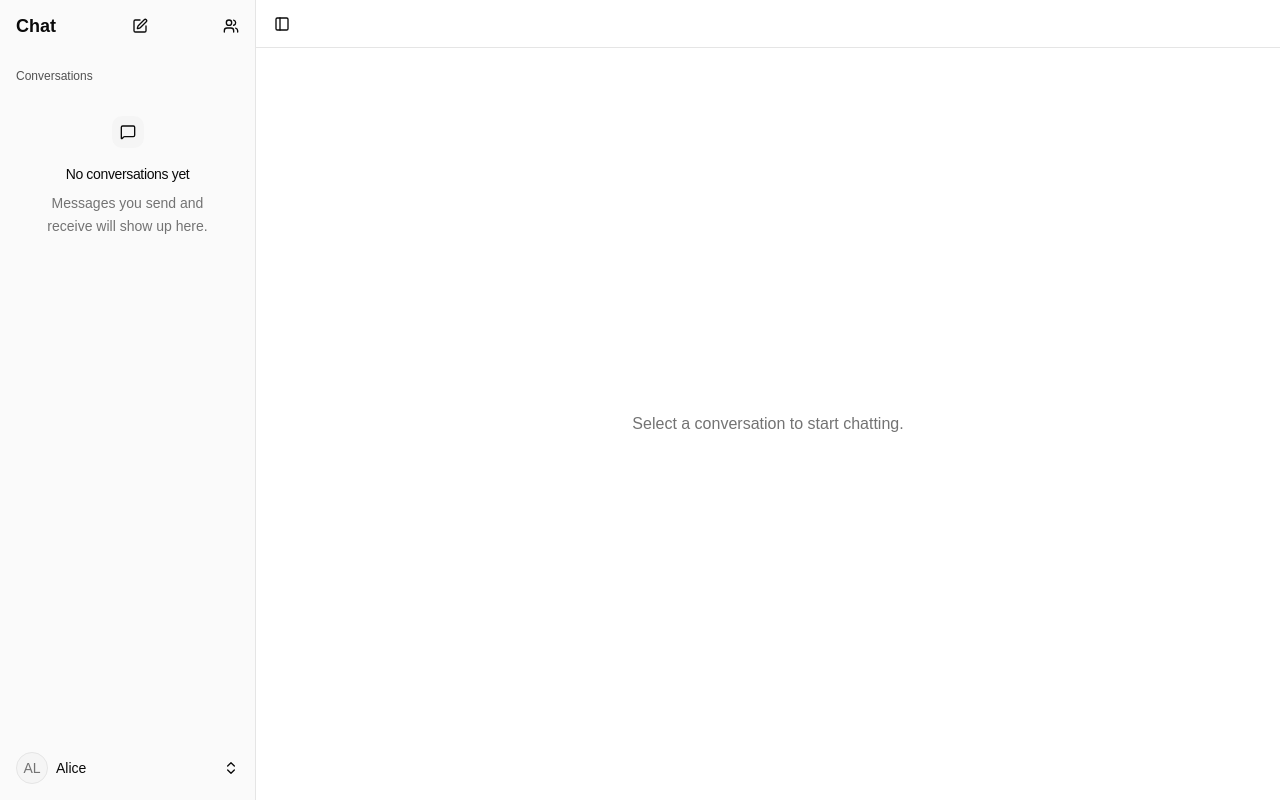
Test: first Direct Message › sends later Messages to the Conversation that the first one created
Expected: the text "No conversations yet" is shown, [66,164,189,184]
Click the button named "new conversation": [140, 26] box [124,10,156,42]
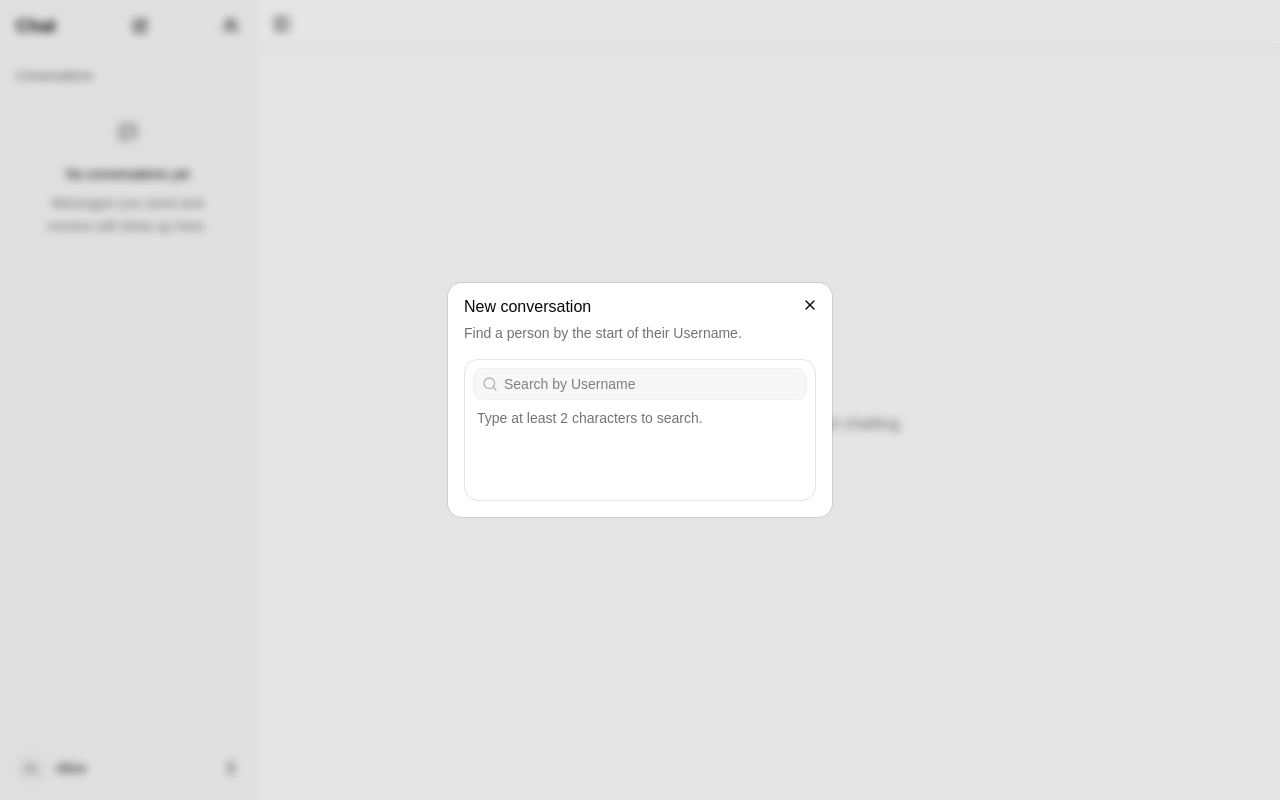
In the dropdown: [652, 384] box [498,374,806,394], type "bo"
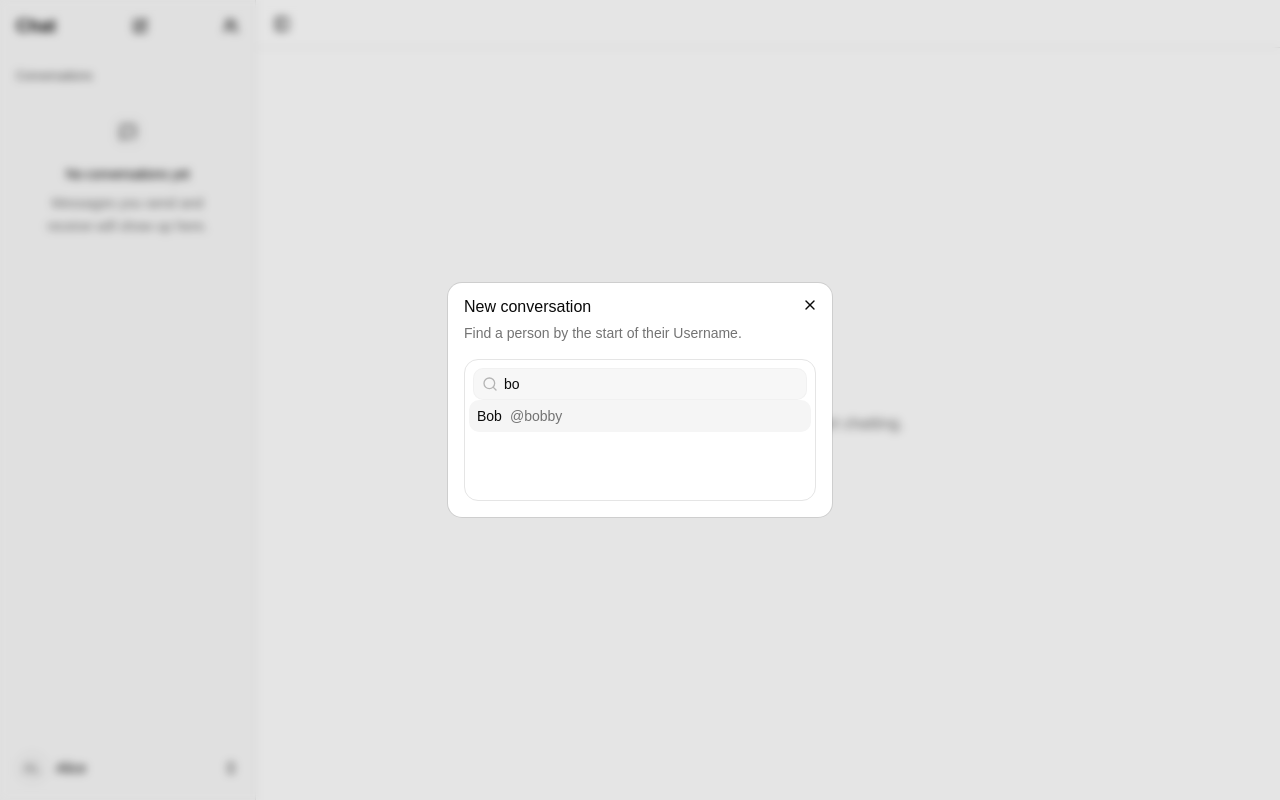
Click the option "Bob @bobby": [543, 416] box [469,400,811,432]
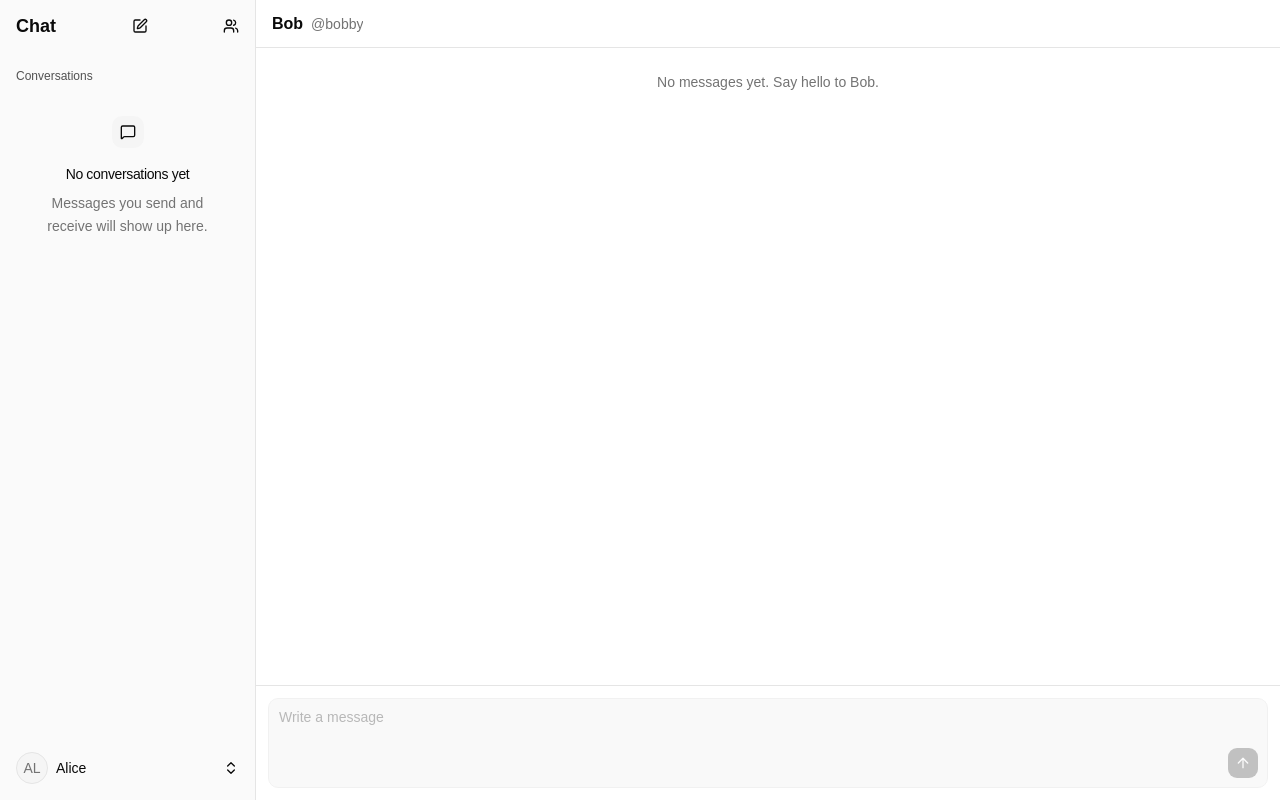
In the text box labelled "Write a message": [768, 719] box [269,699,1267,739], type "one"
Then press Enter
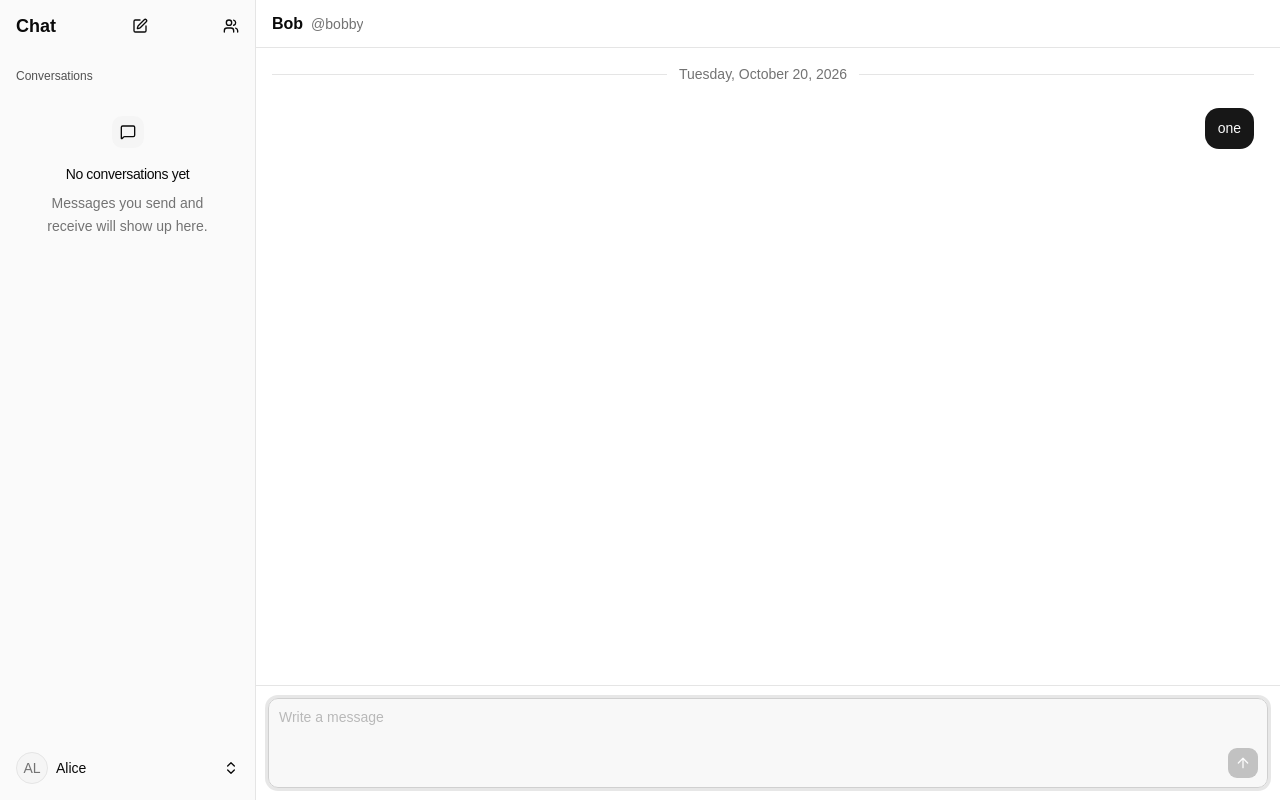
Expected: the button "one" is shown, [1205,108,1254,149]
In the text box labelled "Write a message": [768, 719] box [269,699,1267,739], type "two"
Then press Enter
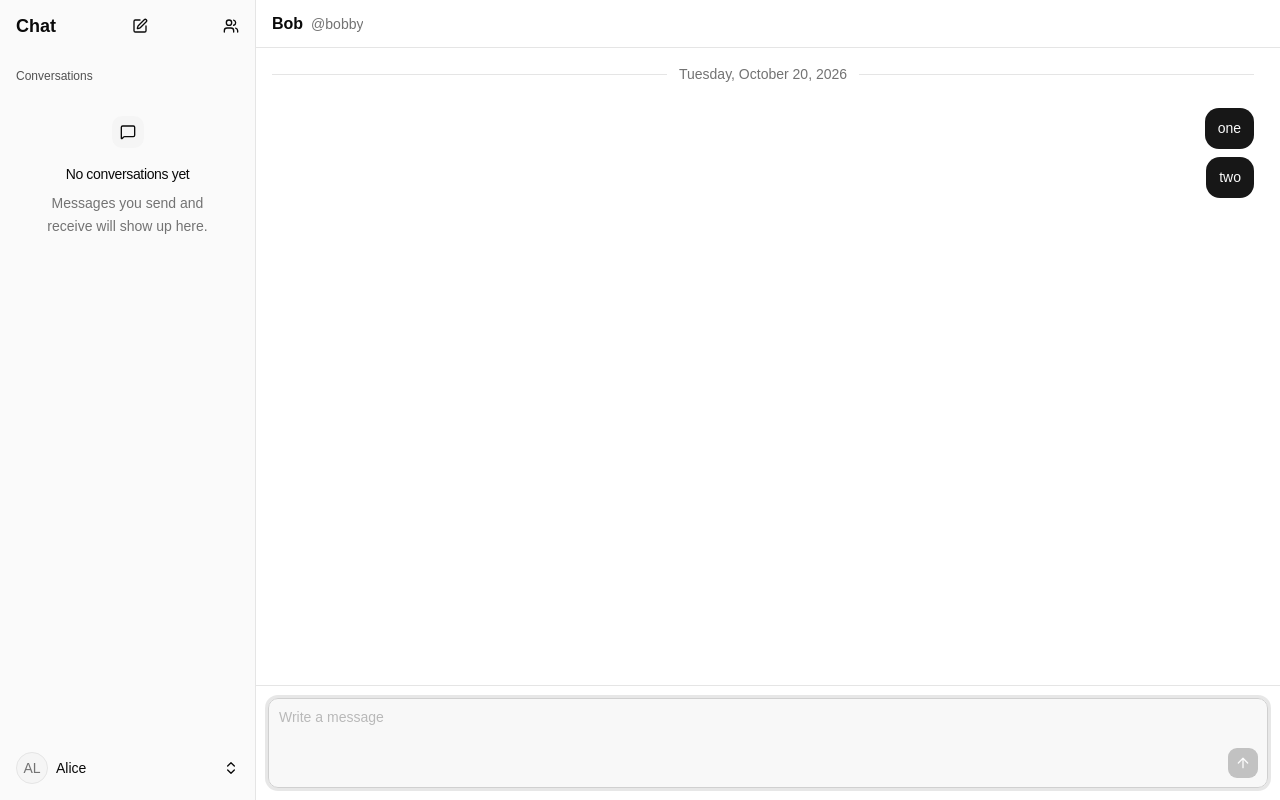
Expected: the button "two" is shown, [1206,157,1254,198]
